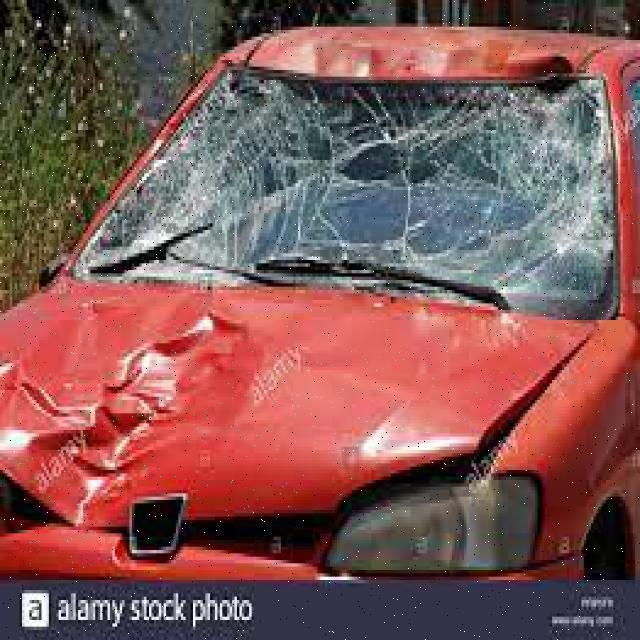Front-Windscreen-Damage: (90, 53, 633, 300)
bonnet-dent: (0, 289, 499, 524)
